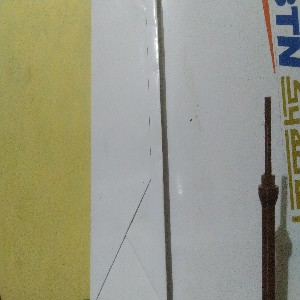obeng: (257, 95, 280, 300)
